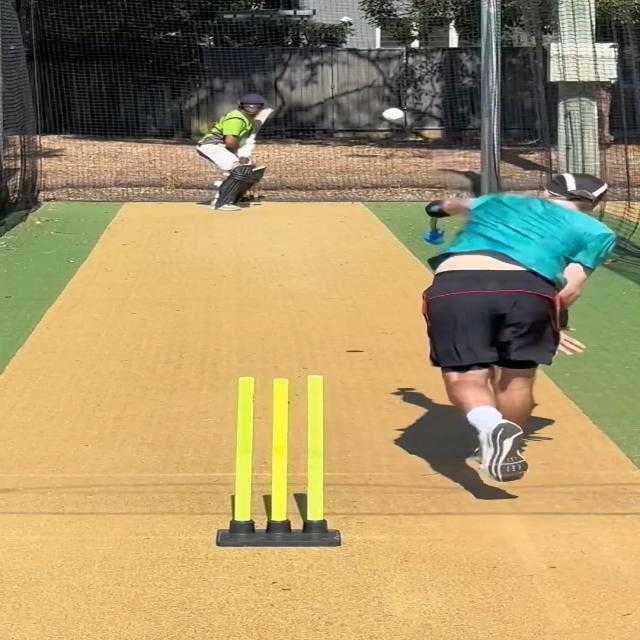ball: (380, 107, 407, 123), (166, 31, 179, 38)
stump: (213, 375, 343, 546)
